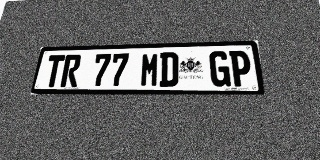7: (91, 54, 112, 87), (109, 53, 129, 87)
D: (159, 52, 178, 87)
G: (209, 51, 231, 87)
M: (140, 52, 160, 87)
P: (229, 50, 253, 87)
R: (60, 54, 82, 87)
T: (43, 55, 65, 87)
